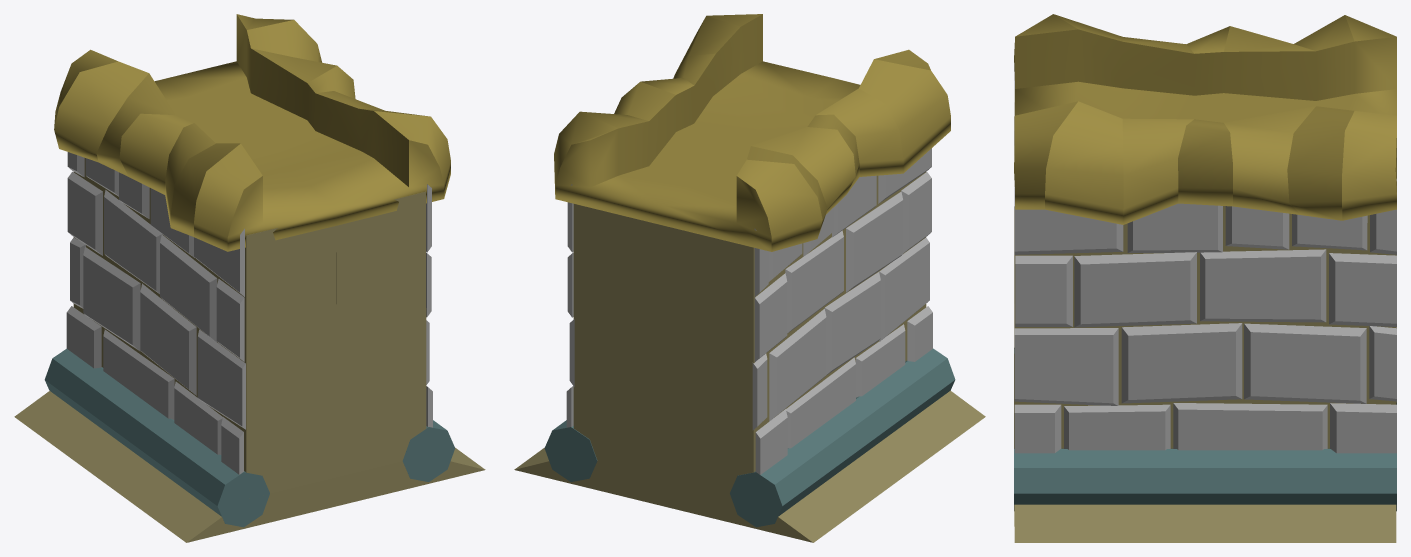
The model's file is Int 7 B.fbx.
The picture shows the model from 3 angles, left to right: view 1: azimuth 30°, elevation 25°; view 2: azimuth 150°, elevation 25°; view 3: azimuth 270°, elevation 25°; orthographic projection. The views are drawn at different scales.
Parts seen in each view (by area): view 1: polySurface6; view 2: polySurface6; view 3: polySurface6.
Boxes of the visible parts, x1,y1,x2,y2 form: polySurface6: [14, 14, 485, 542]; polySurface6: [514, 14, 985, 542]; polySurface6: [1014, 14, 1396, 542].
Size of the model in its own units: 1 by 1.14 by 1.
